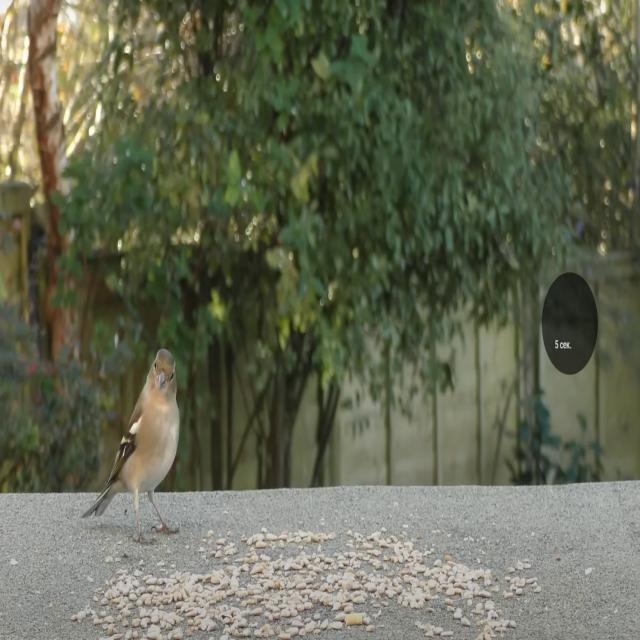beak: (154, 370, 170, 391)
bird: (82, 343, 184, 553)
